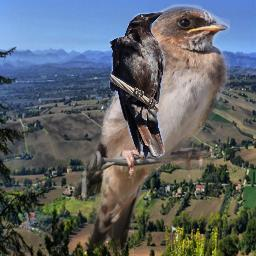Crow: (109, 10, 165, 158)
Swallow: (72, 3, 230, 252)
